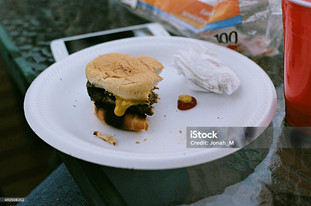food: (71, 48, 162, 146), (172, 93, 205, 115)
paper: (171, 42, 246, 104)
plastic: (27, 18, 279, 162), (273, 2, 311, 144)
